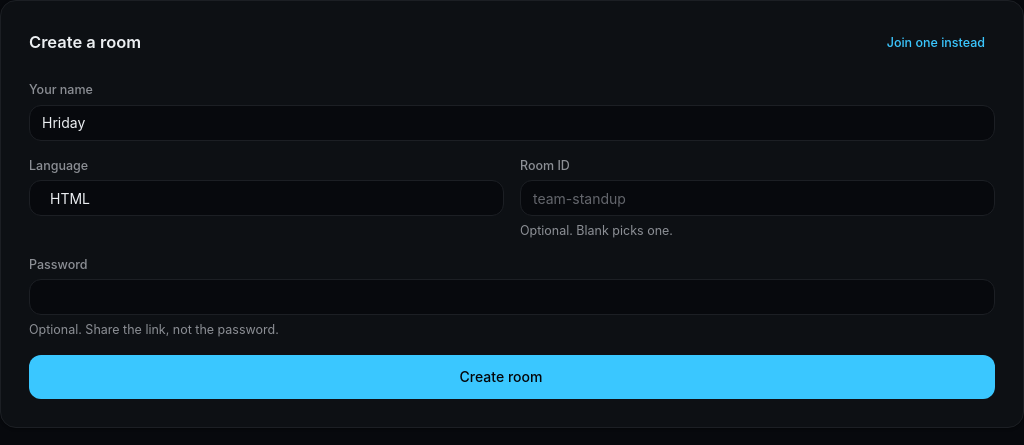
Test case: StartPanel › sends the passcode and flags a missing one
Step 1. Click the button "Join one instead" → point(936, 43), box [877,29,995,57]
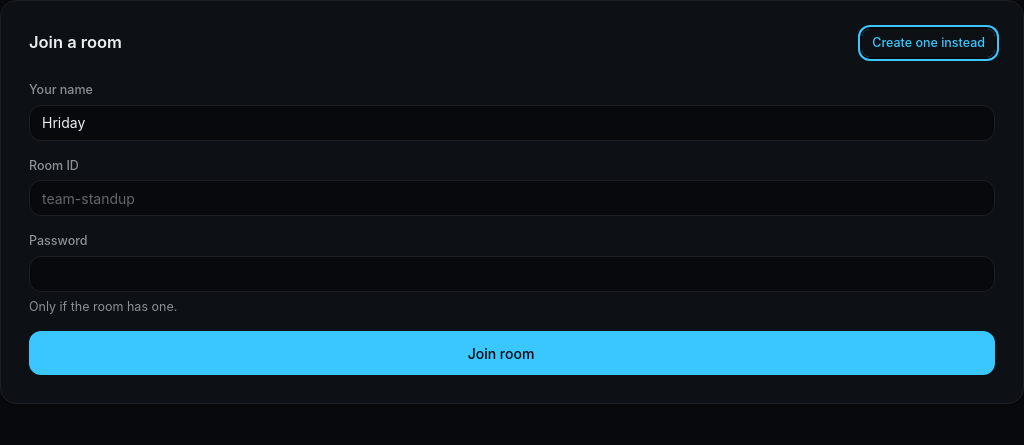
Step 2. Type "locked-room" into the field labelled "Room ID" → point(512, 198), box [29,180,995,216]
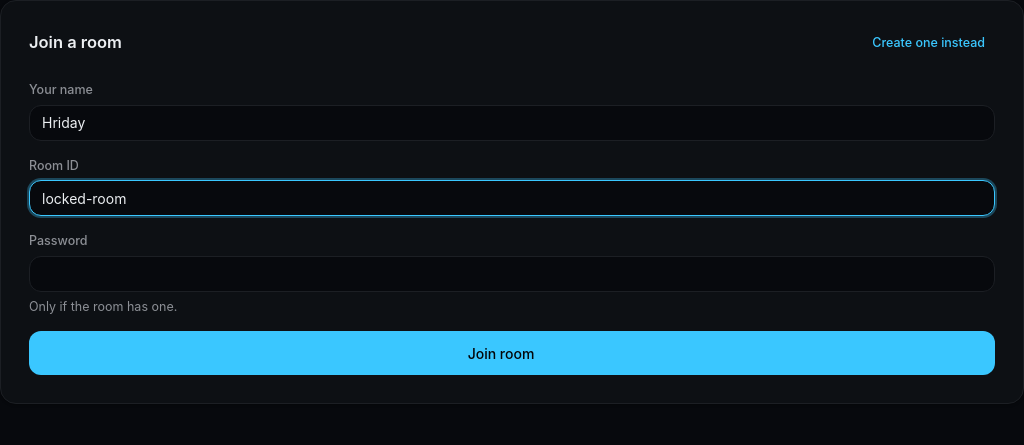
Step 3. Click the button "Join room" → point(512, 353), box [29,331,995,375]
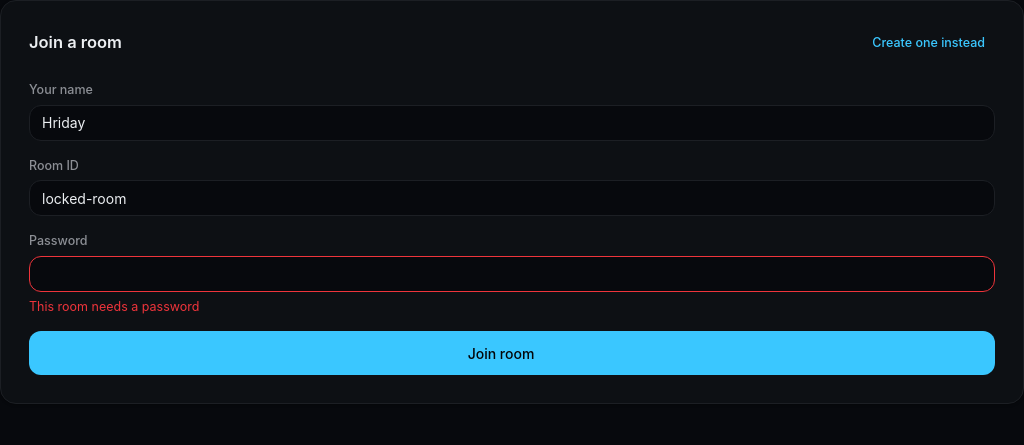
Now the text "This room needs a password" is shown, box [29,298,200,314]
Step 4. Type "secret" into the password field labelled "Password" → point(512, 274), box [29,256,995,292]
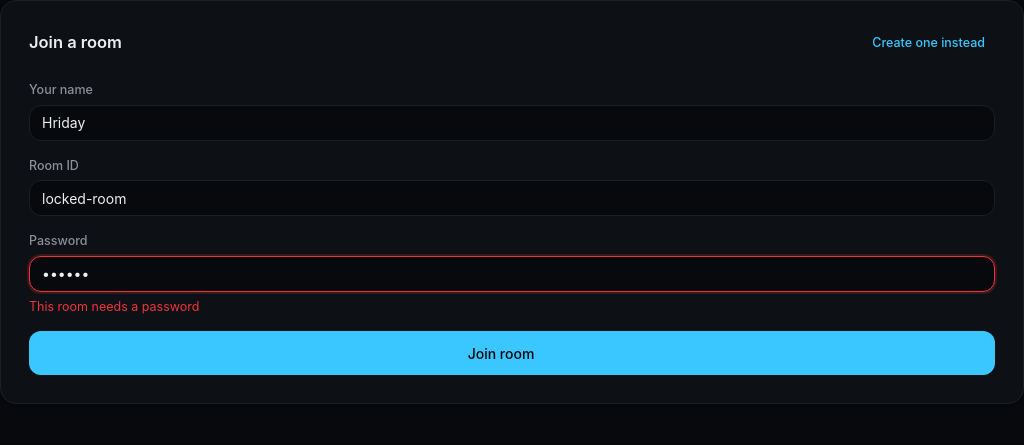
Step 5. Click the button "Join room" → point(512, 353), box [29,331,995,375]
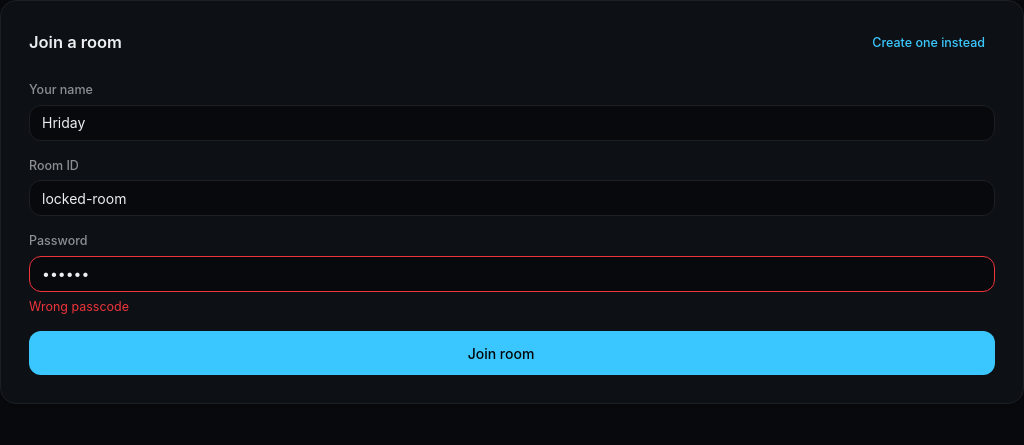
Now the text "Wrong passcode" is shown, box [29,298,129,314]
